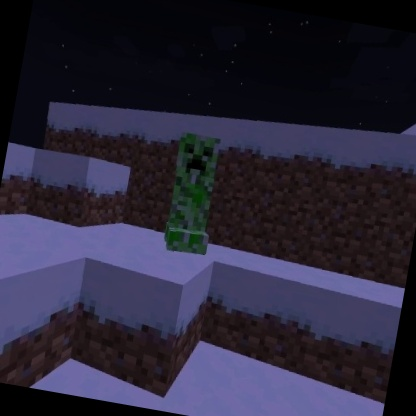creeper: (157, 129, 230, 261)
